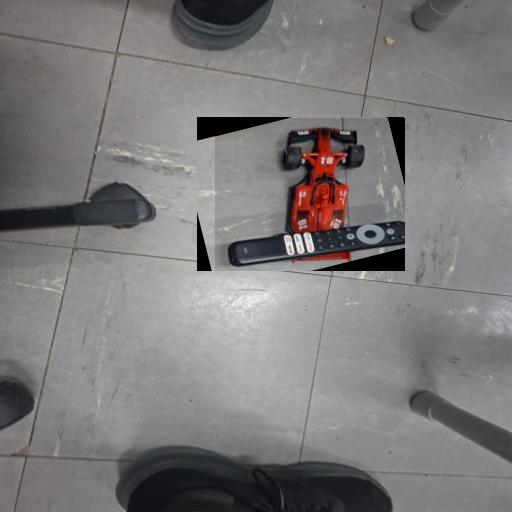carro: (215, 118, 404, 271)
